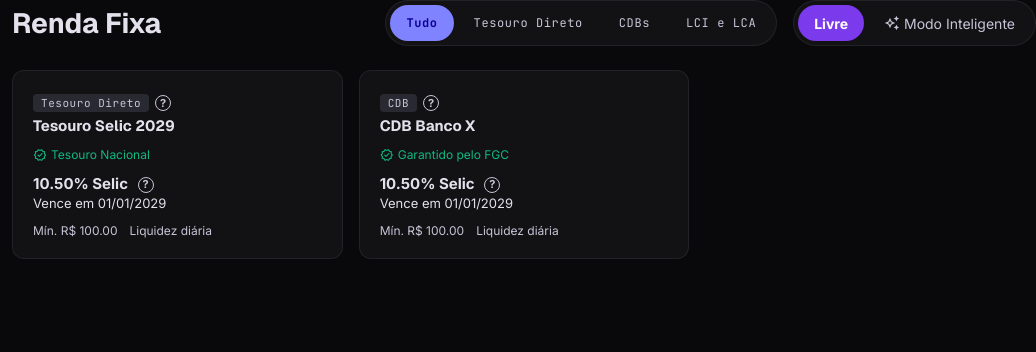
it: RendaFixaComponent › abrir a ajuda dentro do card não deve abrir o detalhe do título
This screenshot has width=1036, height=352.
Click the 1st button with class "ajuda__botao".
click(163, 103)  # box top-left (151, 91), bottom-right (175, 115)
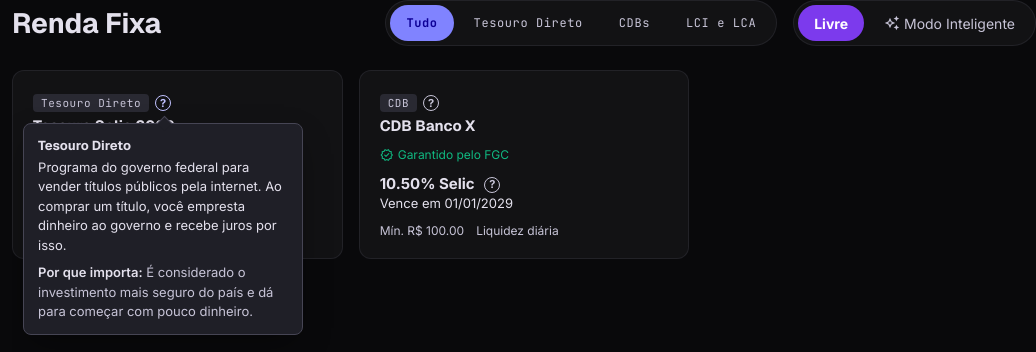
Now the element with class "ajuda__balao" is shown, box top-left (23, 123), bottom-right (303, 334)
